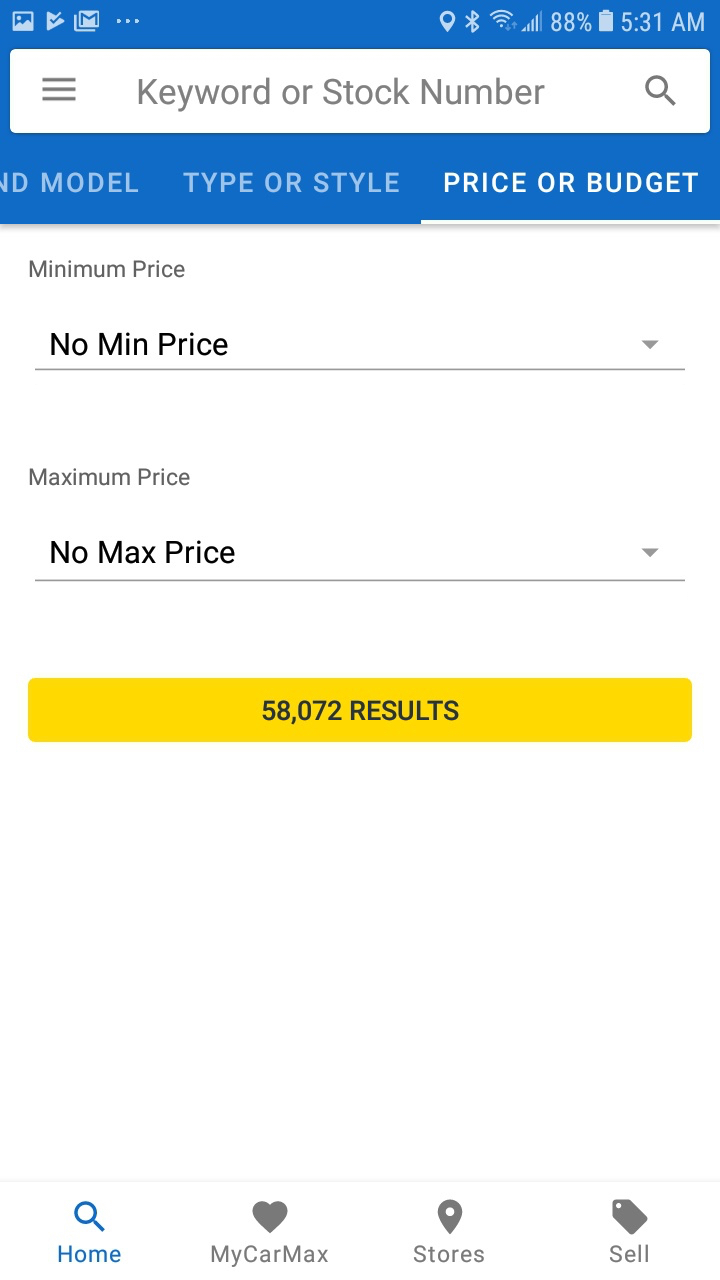EditText: (11, 49, 711, 134), (35, 540, 686, 583), (35, 331, 686, 372)
Icon: (611, 1198, 648, 1235), (252, 1201, 289, 1234), (74, 1201, 106, 1233), (645, 76, 676, 107), (437, 1199, 463, 1235), (42, 78, 77, 103), (641, 340, 660, 350), (641, 548, 659, 558)
Text: (139, 78, 546, 113), (445, 172, 699, 194), (183, 171, 400, 194), (51, 331, 229, 357), (51, 540, 236, 565), (30, 468, 191, 487), (1, 172, 140, 194), (29, 260, 186, 279), (211, 1244, 329, 1268), (414, 1244, 485, 1263), (58, 1244, 122, 1263), (609, 1244, 649, 1264)
TextButton: (28, 677, 692, 743)
UpperTaskBar: (1, 1, 720, 35)
